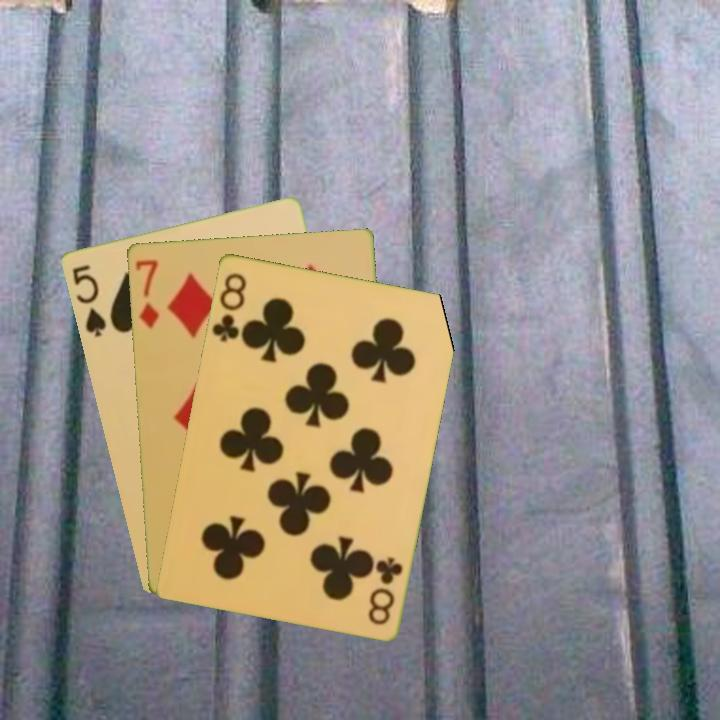5s: (68, 260, 109, 340)
7d: (132, 255, 162, 331)
8c: (208, 268, 249, 345), (364, 553, 405, 628)
